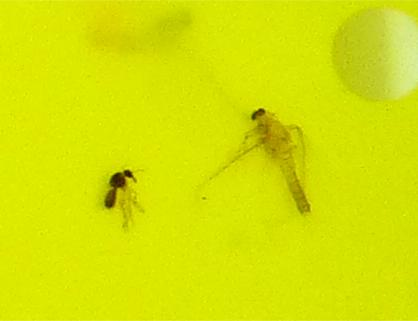Brachycera: (100, 166, 137, 211)
Ephemeroptera: (239, 100, 318, 221)
